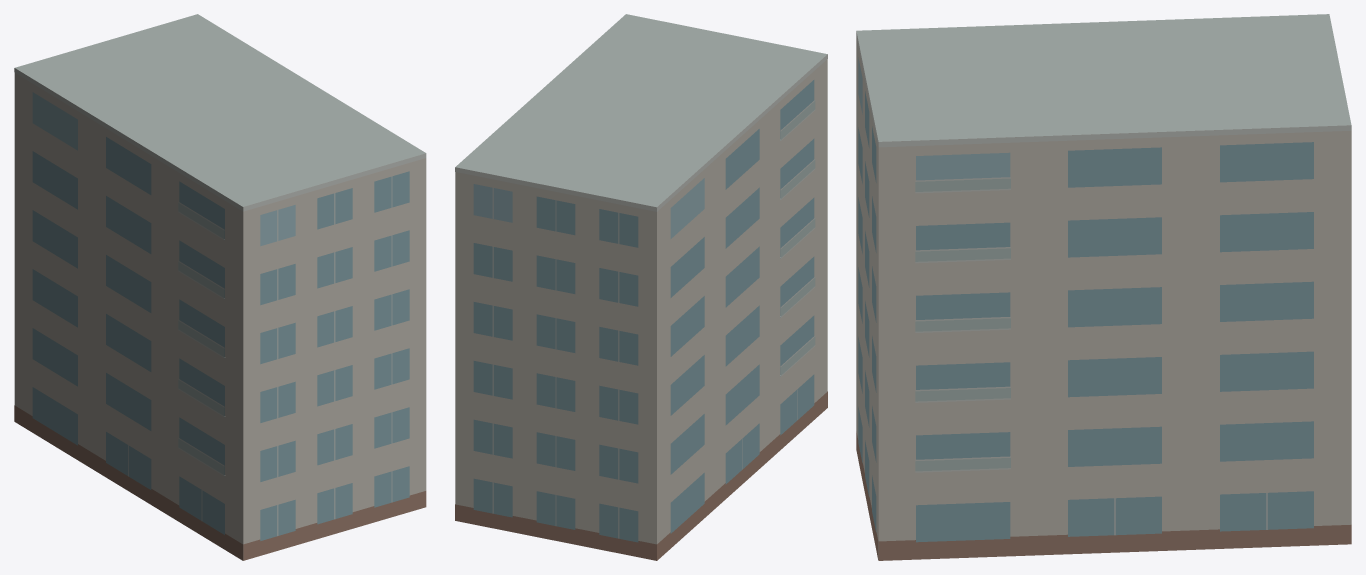
File: survey-upis-32921345.glb
The picture shows the model from 3 angles, left to right: view 1: azimuth 30°, elevation 25°; view 2: azimuth 150°, elevation 25°; view 3: azimuth 270°, elevation 25°; orthographic projection. The views are drawn at different scales.
Visible parts, largest first — view 1: survey-upis-32921345.tmp; view 2: survey-upis-32921345.tmp; view 3: survey-upis-32921345.tmp.
Part boxes in pixels (<box>): survey-upis-32921345.tmp: <box>14,14,426,560</box>; survey-upis-32921345.tmp: <box>455,14,827,560</box>; survey-upis-32921345.tmp: <box>856,14,1351,560</box>.
Size of the model in its own units: 12.12 by 18.5 by 19.83.
